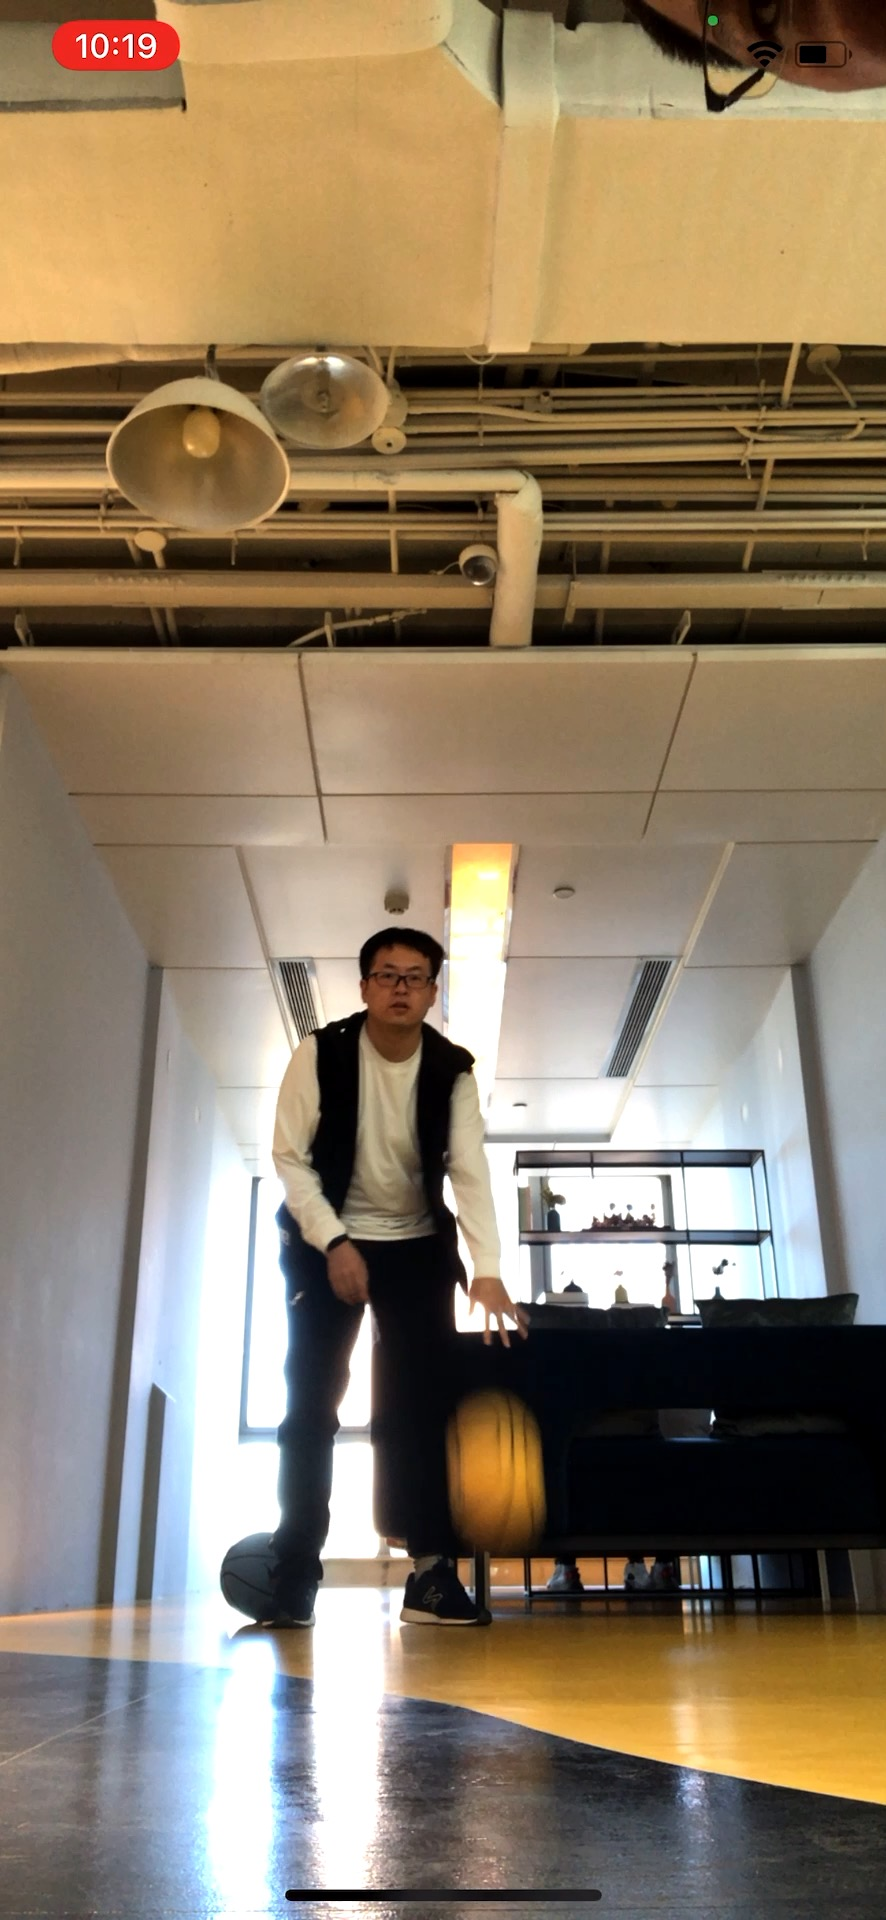ball: (445, 1400, 541, 1545), (223, 1531, 284, 1619)
